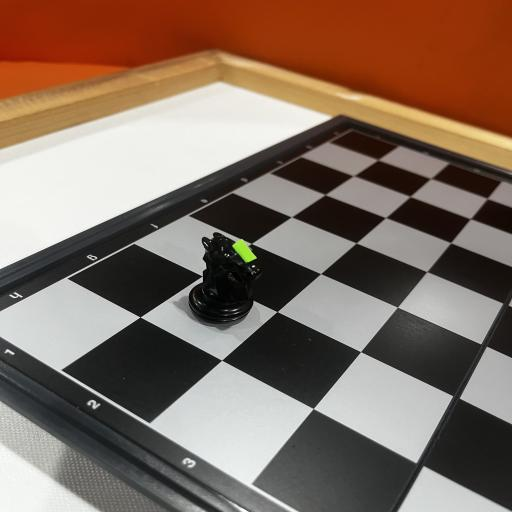Black knight: (188, 232, 262, 326)
